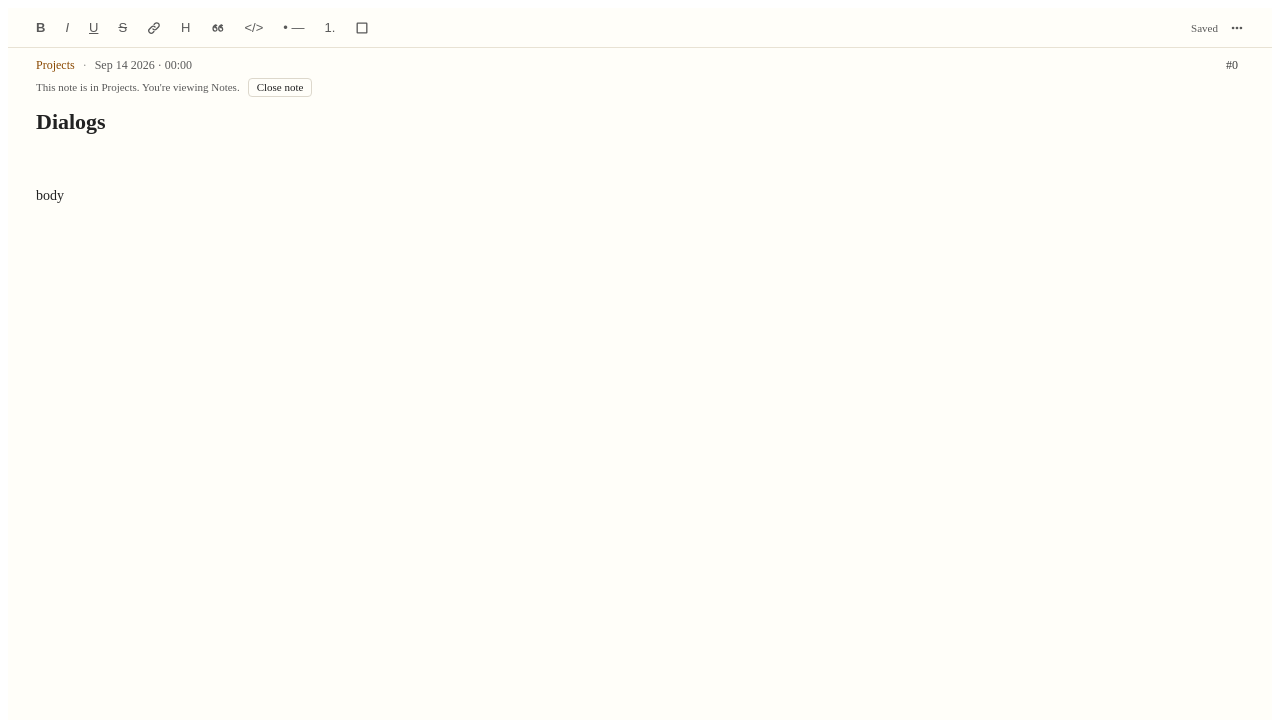
Test case: keyboard-shortcuts cheat sheet › opens as a Modal titled Keyboard shortcuts, with the table
This screenshot has width=1280, height=720.
What coordinates should you click on to do the following:
click the button named "Note actions"
I would click on:
 (1237, 28)
Its box is [1222,16,1252,38].
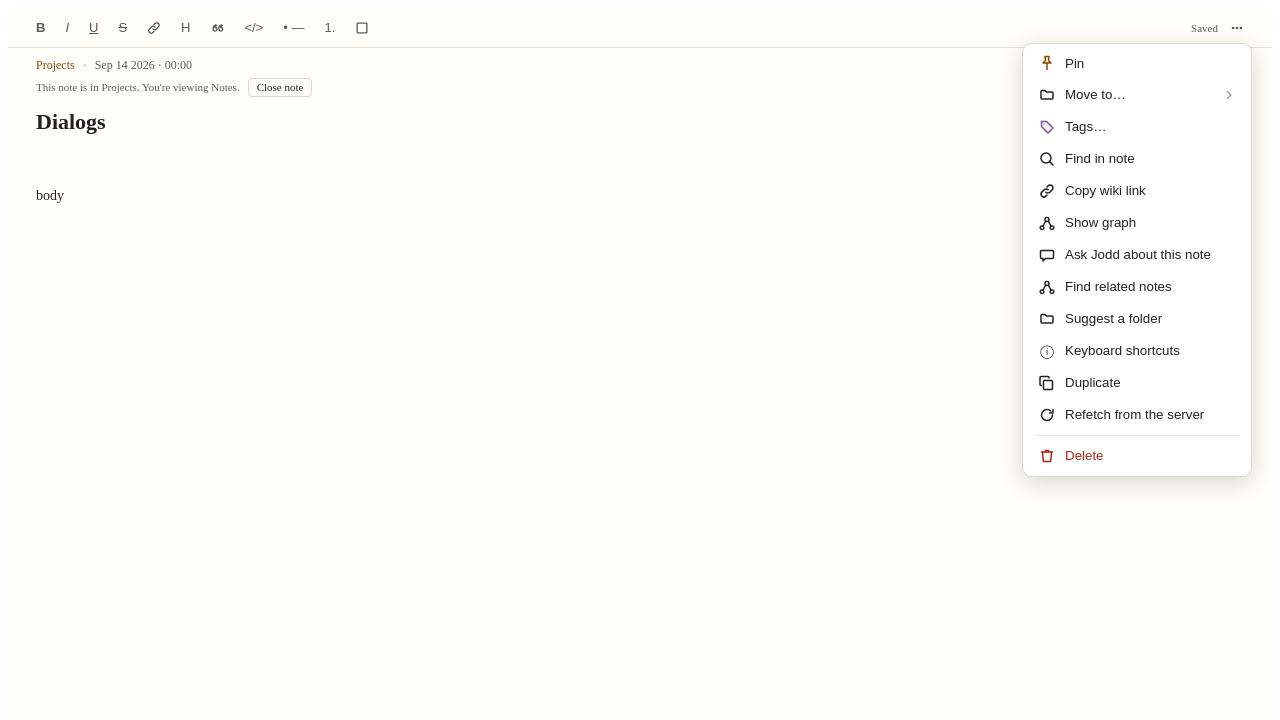
What coordinates should you click on to do the following:
click the menu item "ⓘ Keyboard shortcuts"
I would click on:
 (1137, 351)
Its box is [1027,335,1247,367].
(page scrolled)
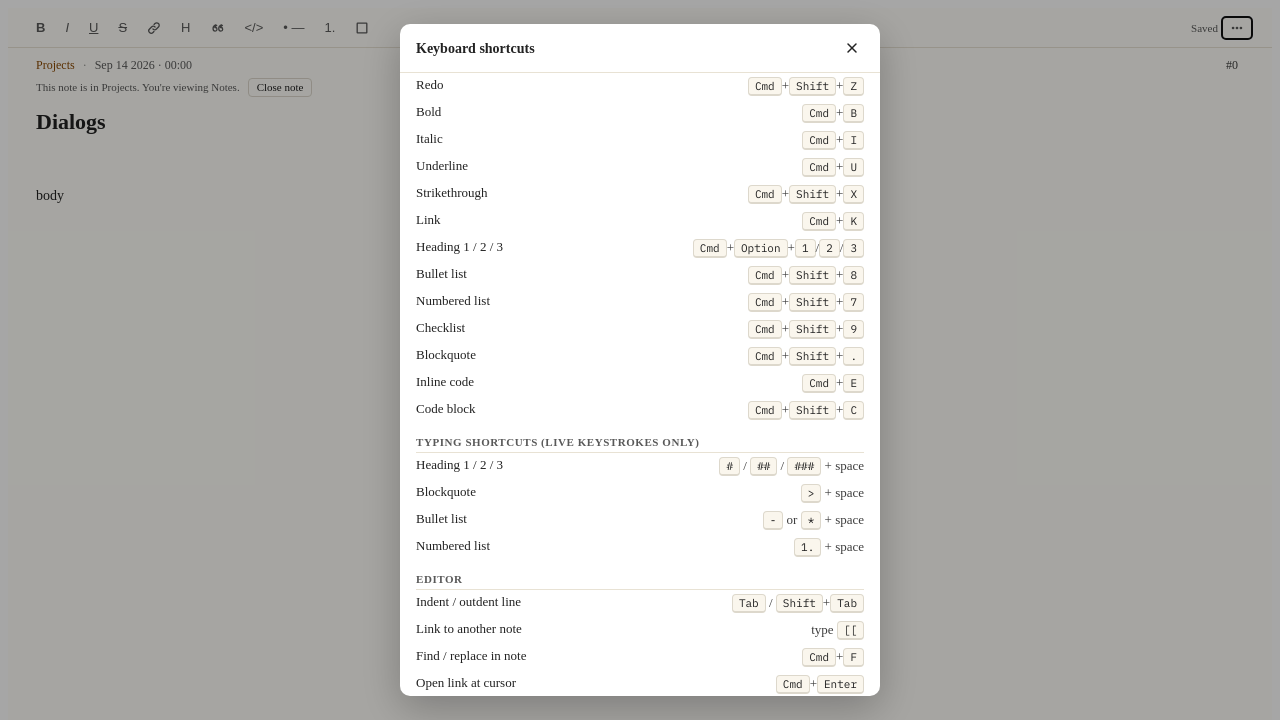
Expected: the heading "Keyboard shortcuts" is shown, [416,40,535,56]
Expected: the table with class "cheat-table" is shown, [416,73,864,696]
